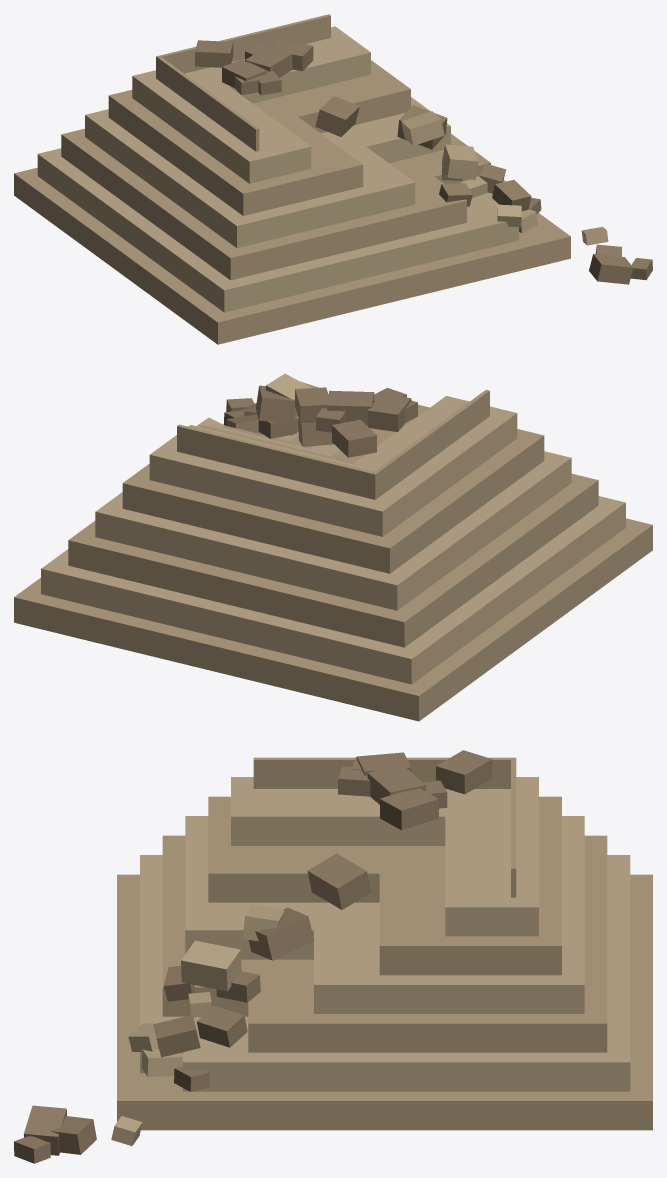
The model's file is pyramid_ruined.glb.
3 views of the same model, one above another, from view 1: azimuth 30°, elevation 25°; view 2: azimuth 150°, elevation 25°; view 3: azimuth 270°, elevation 25° (orthographic). The views are drawn at different scales.
Parts seen in each view (by area): view 1: pyramid_ruined; view 2: pyramid_ruined; view 3: pyramid_ruined.
Boxes of the visible parts, <box> form: pyramid_ruined: <box>14,14,652,344</box>; pyramid_ruined: <box>14,373,652,721</box>; pyramid_ruined: <box>14,750,652,1163</box>.
Bounding box in the file's own units: 22.86 × 9.62 × 23.85.
